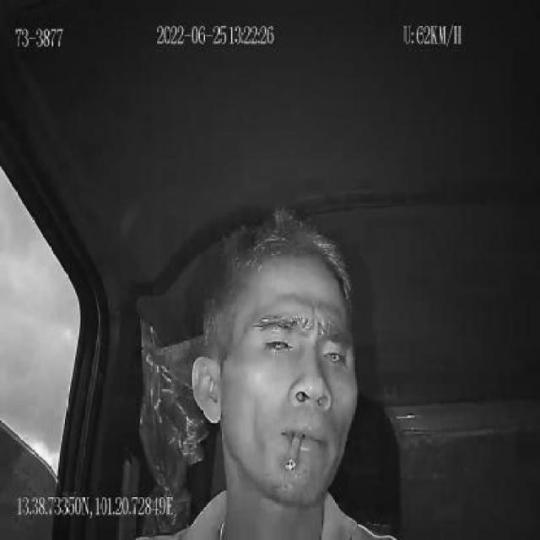smoking: (286, 433, 302, 474)
